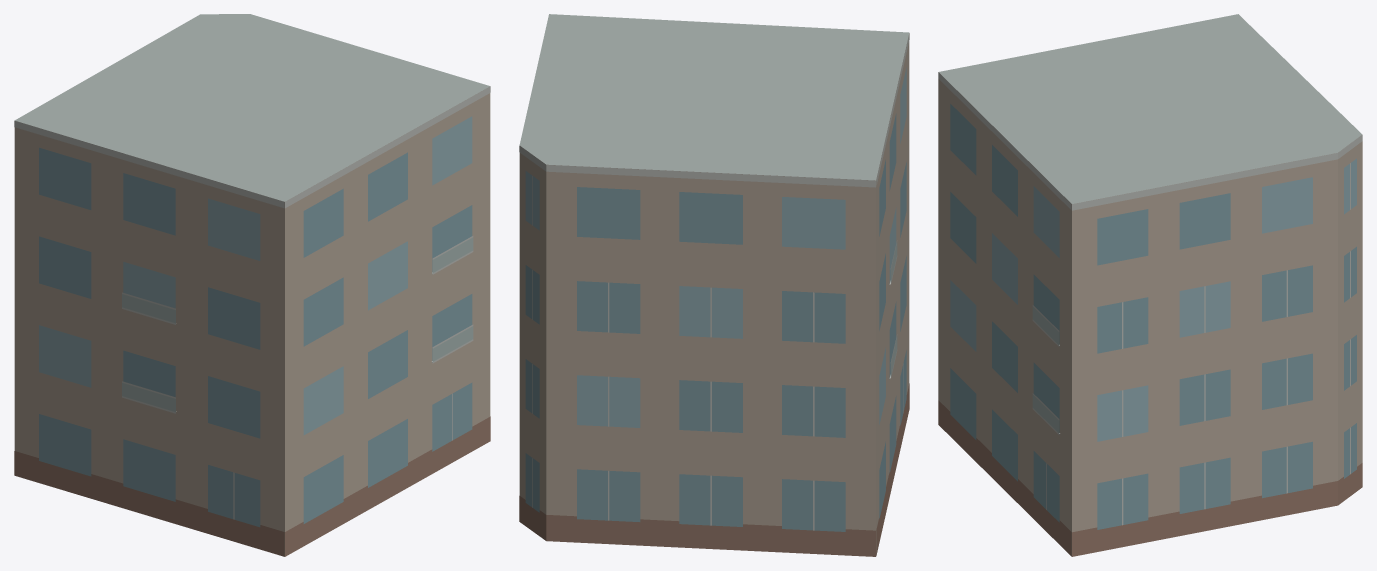
File: survey-upis-32681237.glb
3 views of the same model, side by side, from view 1: azimuth 30°, elevation 25°; view 2: azimuth 150°, elevation 25°; view 3: azimuth 270°, elevation 25° (orthographic). The views are drawn at different scales.
Visible parts, largest first — view 1: survey-upis-32681237.tmp; view 2: survey-upis-32681237.tmp; view 3: survey-upis-32681237.tmp.
Part boxes in pixels (x1,y1,x2,y2): survey-upis-32681237.tmp: [14, 14, 490, 556]; survey-upis-32681237.tmp: [519, 14, 909, 556]; survey-upis-32681237.tmp: [938, 14, 1362, 556].
Size of the model in its own units: 15.16 by 13.1 by 14.28.
